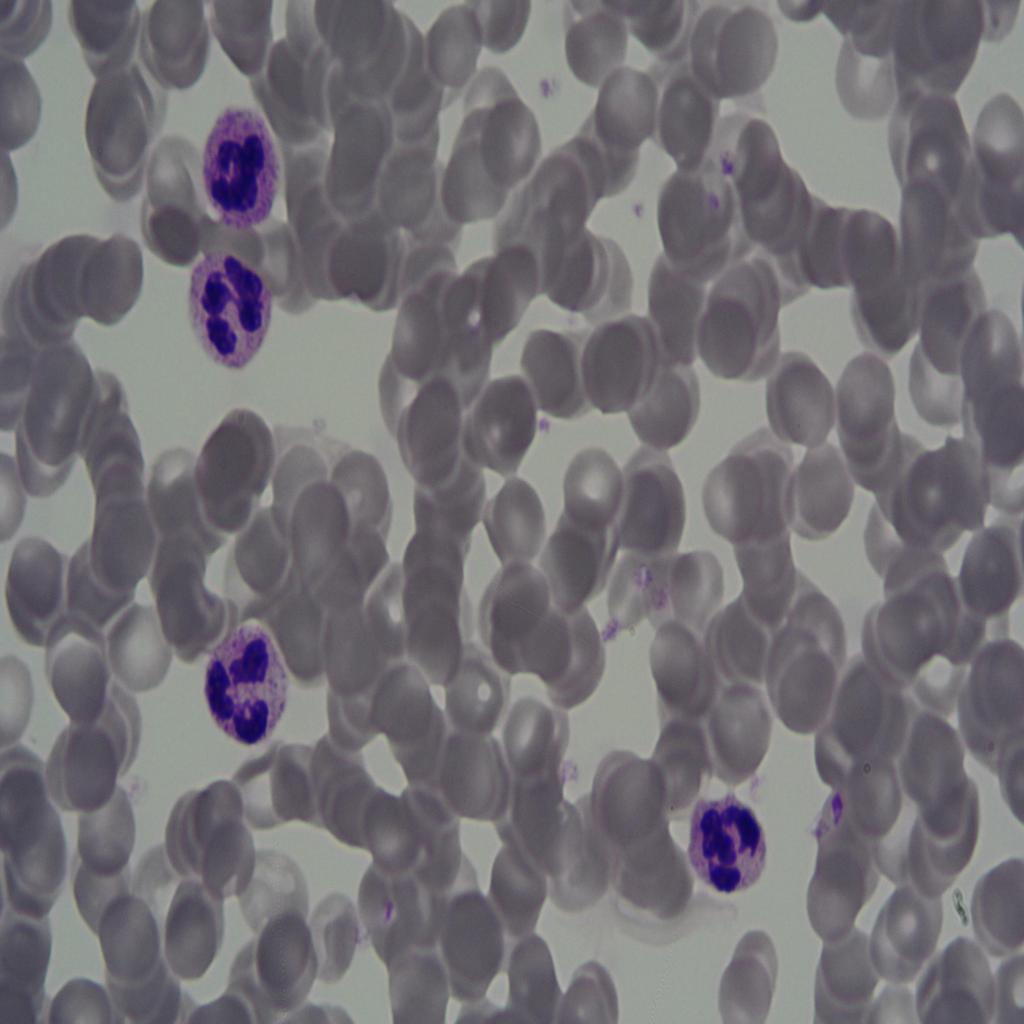Neutrofil: (196, 616, 300, 752), (182, 250, 282, 380), (198, 90, 281, 235), (678, 793, 772, 911)
Platelet: (529, 72, 562, 112), (532, 401, 554, 444), (821, 788, 846, 815), (696, 186, 718, 211), (720, 146, 738, 174), (632, 194, 646, 213)
